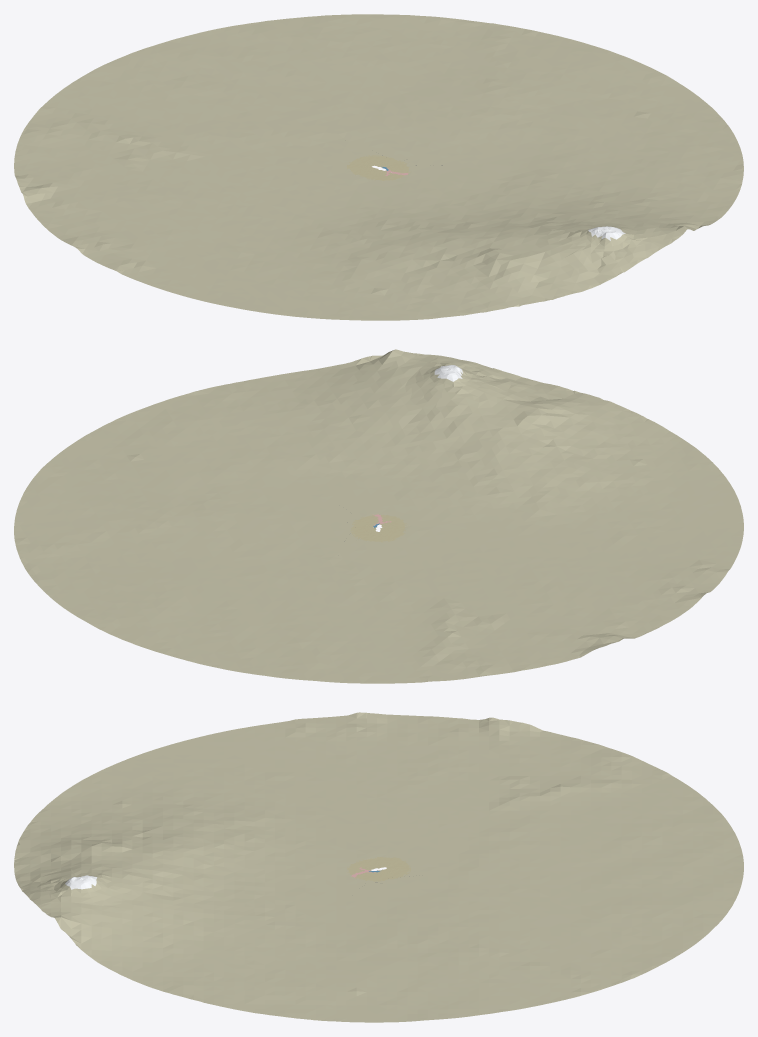
The model's file is backdrop.glb.
3 views of the same model, one above another, from view 1: azimuth 30°, elevation 25°; view 2: azimuth 150°, elevation 25°; view 3: azimuth 270°, elevation 25° (orthographic).
Visible parts, largest first — view 1: backdrop_horizon_land, backdrop_terrain_scrub; view 2: backdrop_horizon_land, backdrop_terrain_scrub; view 3: backdrop_horizon_land, backdrop_terrain_scrub.
Part boxes in pixels (<box>): backdrop_horizon_land: <box>14,14,743,320</box>; backdrop_terrain_scrub: <box>346,155,410,180</box>; backdrop_horizon_land: <box>14,349,743,683</box>; backdrop_terrain_scrub: <box>350,514,407,542</box>; backdrop_horizon_land: <box>14,712,743,1022</box>; backdrop_terrain_scrub: <box>347,857,410,881</box>.
Size of the model in its own units: 106455 by 4854 by 107425.
